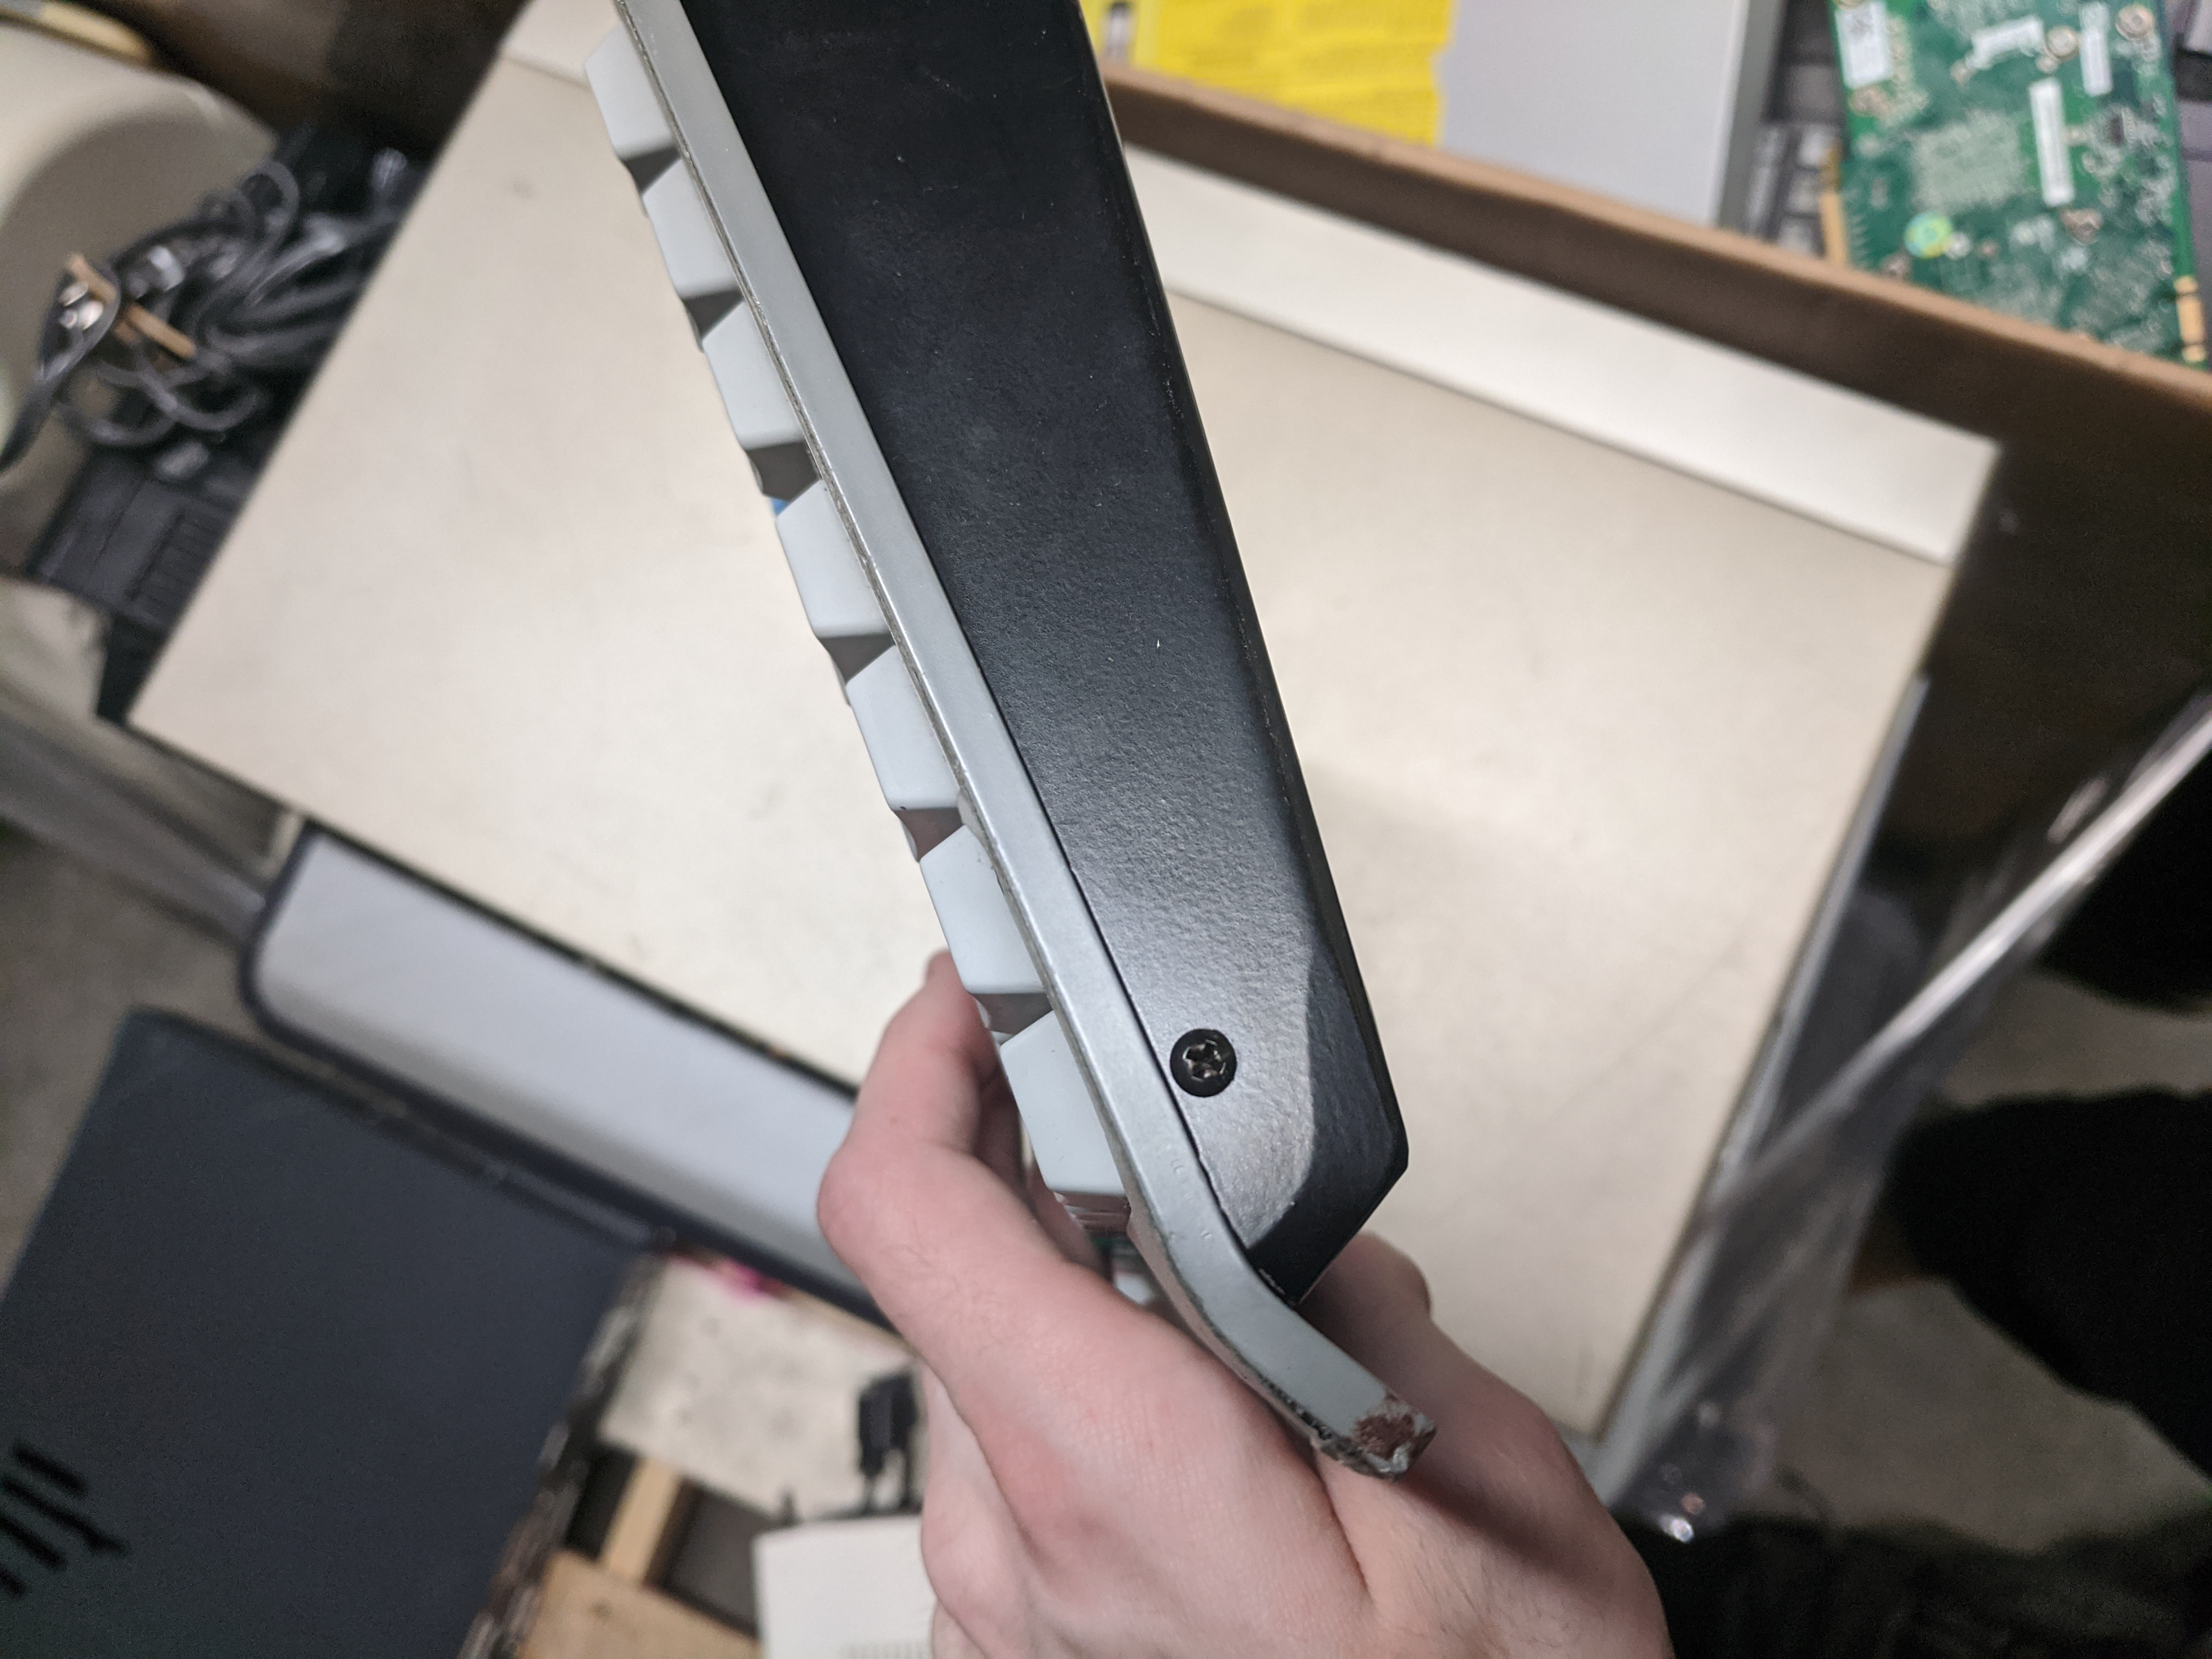cross_recessed_screw: (1160, 1009, 1245, 1100)
